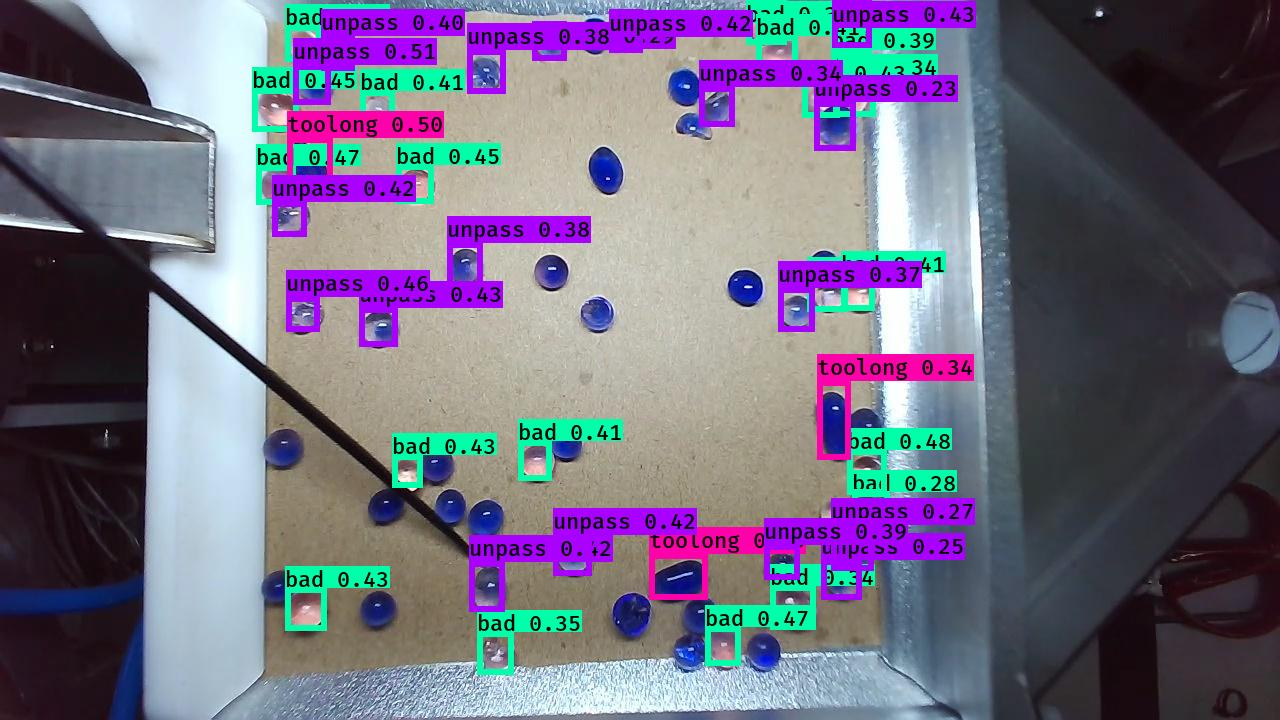bad: (770, 587, 817, 634), (254, 88, 302, 133), (282, 586, 327, 634), (756, 36, 801, 83), (745, 3, 786, 47), (258, 164, 301, 205), (705, 630, 746, 671), (477, 636, 518, 677), (285, 27, 325, 66), (397, 166, 436, 206), (832, 52, 873, 89), (519, 441, 555, 483), (358, 91, 397, 129), (821, 498, 858, 538), (838, 79, 875, 116), (852, 495, 891, 530), (843, 275, 879, 312), (803, 80, 836, 118), (387, 455, 422, 489), (852, 455, 886, 489), (811, 277, 843, 313)
defact: (671, 109, 717, 145)
pass: (608, 591, 648, 644), (587, 143, 625, 198), (261, 424, 304, 470), (465, 498, 508, 542), (530, 250, 573, 292), (259, 565, 301, 608), (364, 485, 404, 529), (724, 268, 764, 310), (358, 590, 400, 630), (665, 67, 704, 110), (576, 291, 615, 333), (744, 630, 782, 672), (546, 422, 584, 463), (851, 408, 885, 452), (683, 597, 719, 635), (670, 635, 706, 672), (804, 248, 840, 284), (578, 16, 612, 54), (433, 488, 465, 523)
toolong: (813, 391, 854, 462), (287, 139, 331, 201), (649, 558, 706, 602)
unpass: (832, 1, 875, 51), (471, 564, 509, 614), (816, 106, 856, 152), (283, 296, 327, 337), (608, 9, 646, 55), (293, 66, 336, 105), (557, 537, 596, 577), (360, 312, 399, 351), (468, 55, 506, 95), (447, 247, 484, 288), (823, 564, 863, 601), (420, 441, 456, 482), (836, 530, 873, 569), (318, 33, 355, 71), (272, 202, 311, 238), (536, 25, 571, 64), (780, 292, 816, 329), (766, 549, 800, 583)
